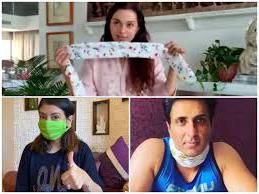mask_weared_incorrect: (170, 109, 210, 163), (110, 18, 135, 47)
with_mask: (37, 109, 64, 135)
